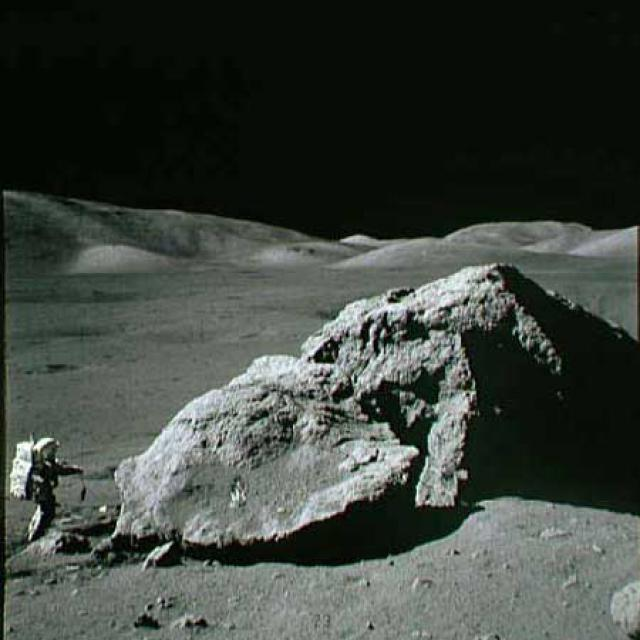rock: (104, 253, 638, 553), (6, 523, 89, 559), (607, 578, 639, 638), (141, 541, 184, 571)
